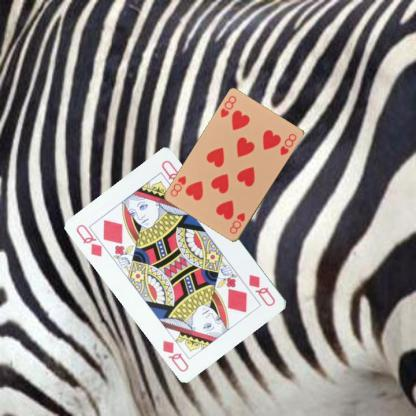8h: (227, 210, 247, 235), (218, 93, 237, 119)
Qd: (74, 221, 111, 258), (246, 272, 277, 308)
